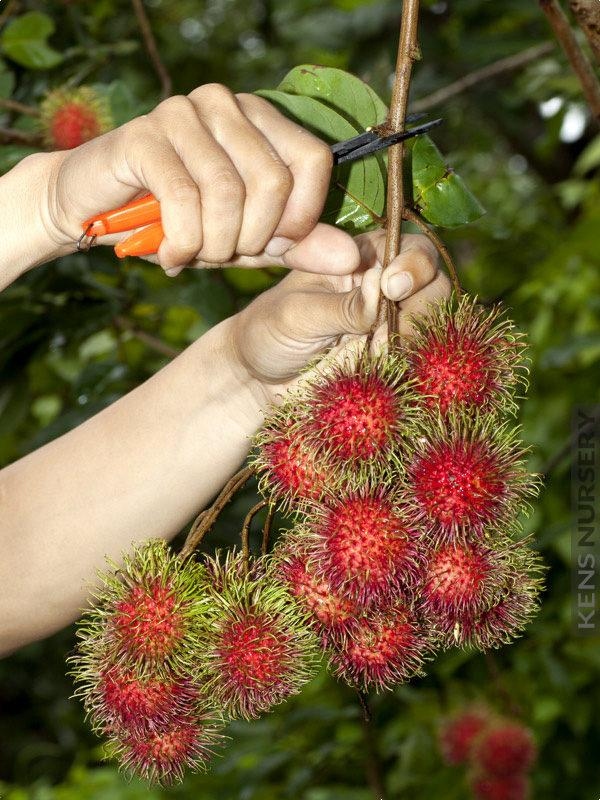chom_chom: (301, 348, 420, 484), (195, 582, 317, 714), (299, 480, 420, 610), (399, 408, 514, 544), (105, 560, 202, 672)
